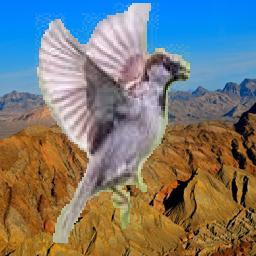Sparrow: (36, 3, 191, 243)
